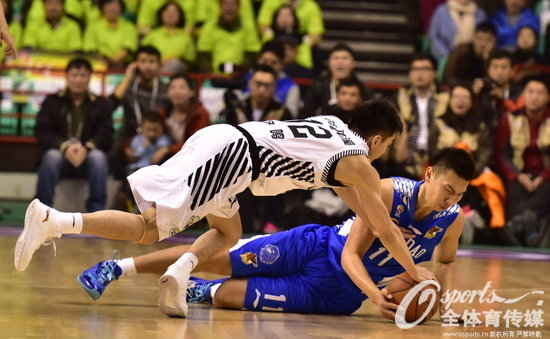10+: (2, 1, 550, 240)
down: (6, 93, 439, 309), (77, 147, 482, 306)
